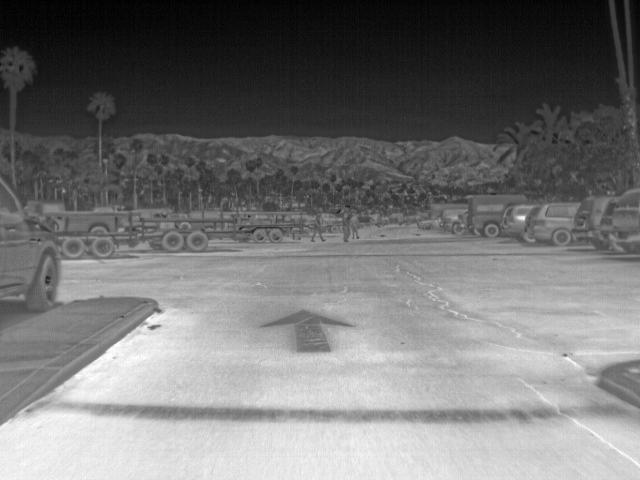car: (0, 173, 58, 315), (523, 202, 582, 250), (572, 193, 620, 249), (611, 188, 638, 252), (500, 204, 537, 240), (438, 206, 465, 236)
person: (307, 210, 326, 243), (350, 210, 363, 240), (338, 211, 350, 241)
